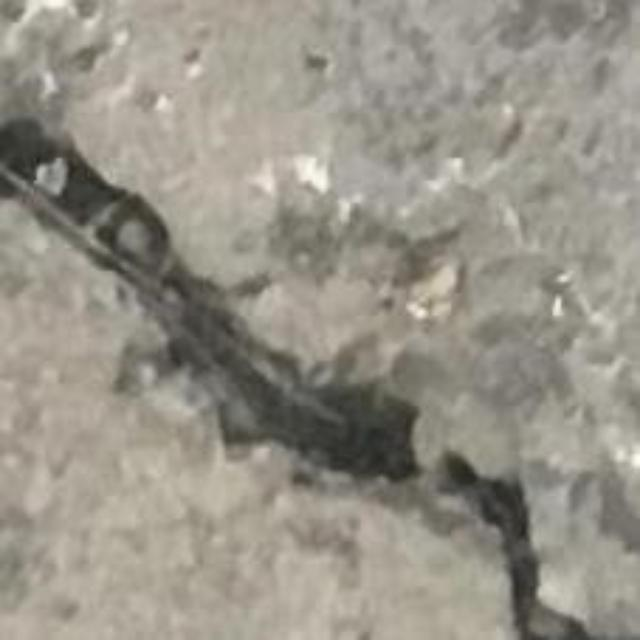crack: (0, 122, 592, 639)
